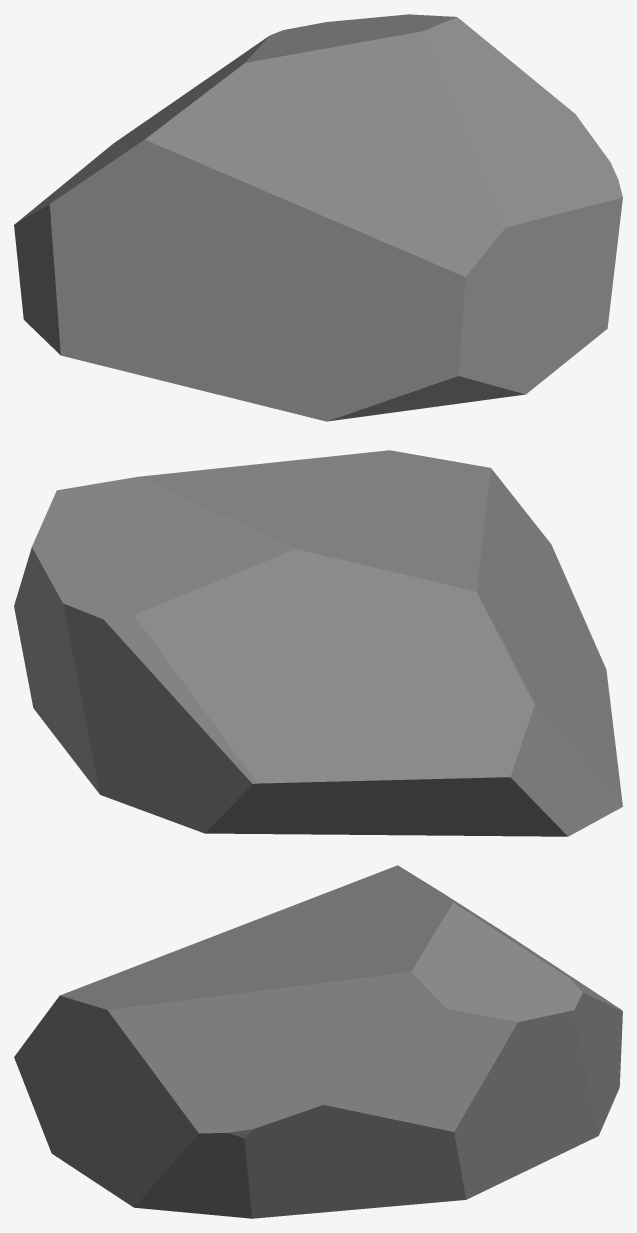
File: Rock9.fbx
The picture shows the model from 3 angles, top to bottom: view 1: azimuth 30°, elevation 25°; view 2: azimuth 150°, elevation 25°; view 3: azimuth 270°, elevation 25°; orthographic projection. The views are drawn at different scales.
Visible parts, largest first — view 1: Cube.007; view 2: Cube.007; view 3: Cube.007.
Part boxes in pixels (x1=…): Cube.007: x1=14, y1=14, x2=622, y2=421; Cube.007: x1=14, y1=450, x2=622, y2=836; Cube.007: x1=14, y1=865, x2=622, y2=1218.
Bounding box in the file's own units: 2933 × 1217 × 3050.
